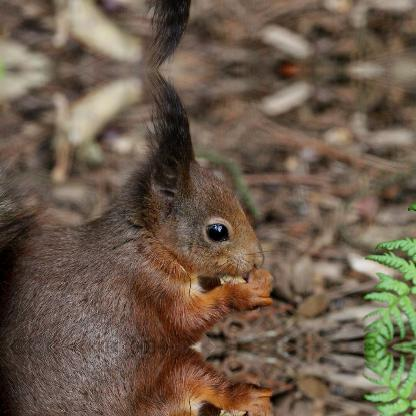Squirrel: (1, 69, 298, 346), (1, 0, 299, 70), (1, 346, 299, 415)
